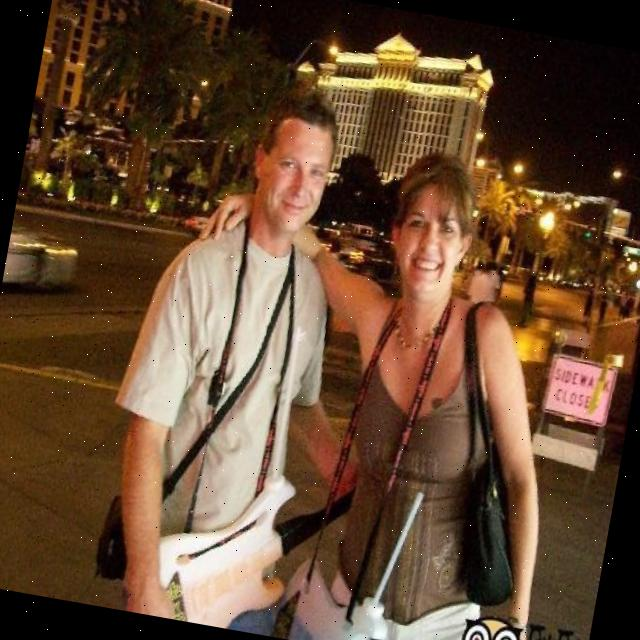guitar: (134, 426, 377, 640)
